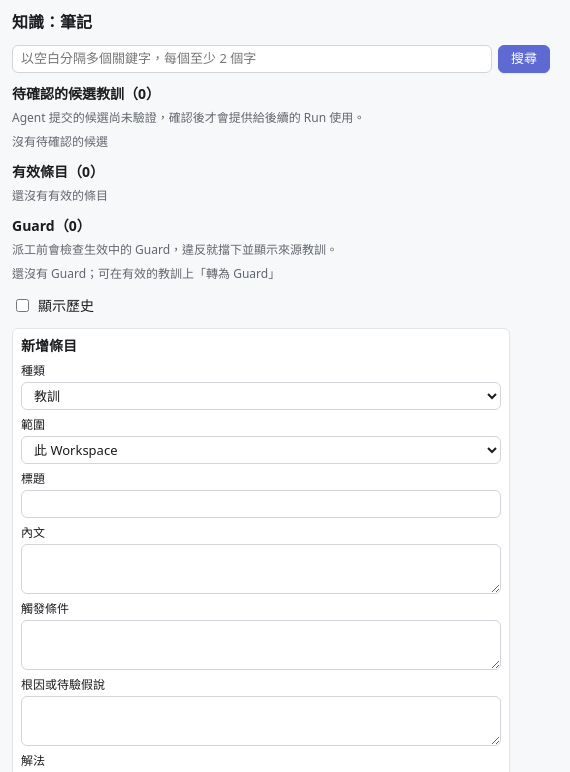
Test: 知識 › 搜尋 › 送出中文關鍵字，以空白分詞
The width and height of the screenshot is (570, 772).
Expected: the text "還沒有有效的條目" is shown, [12, 187, 108, 204]
Type " 部署 備份 " into the field named "搜尋關鍵字". click: x=252, y=59
box: [12, 45, 492, 73]
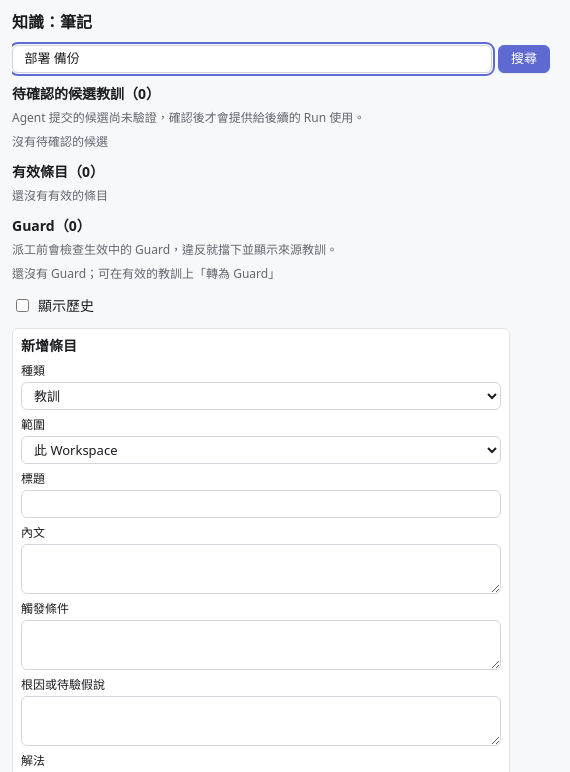
Click the button "搜尋". click: x=524, y=59
box: [498, 45, 550, 73]
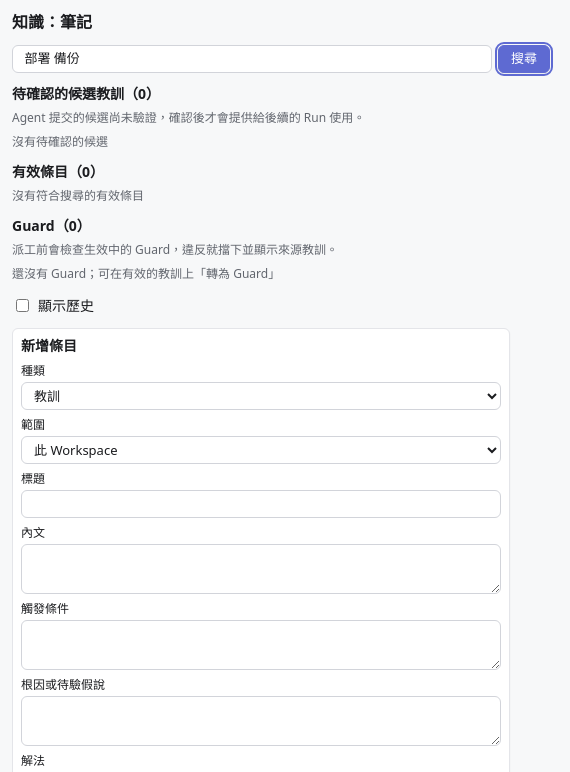
Now the text "沒有符合搜尋的有效條目" is shown, box [12, 187, 144, 204]
